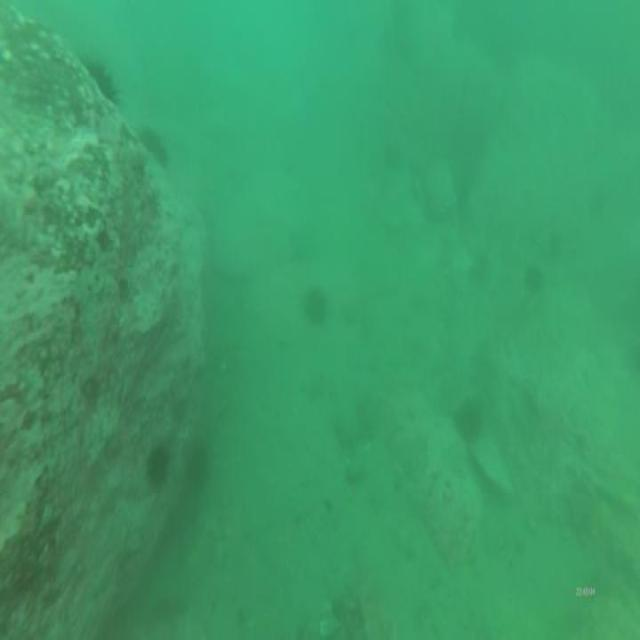echinus: (76, 52, 121, 112), (140, 438, 174, 496), (137, 123, 170, 174), (452, 395, 484, 446), (300, 278, 330, 330), (522, 258, 544, 298)
